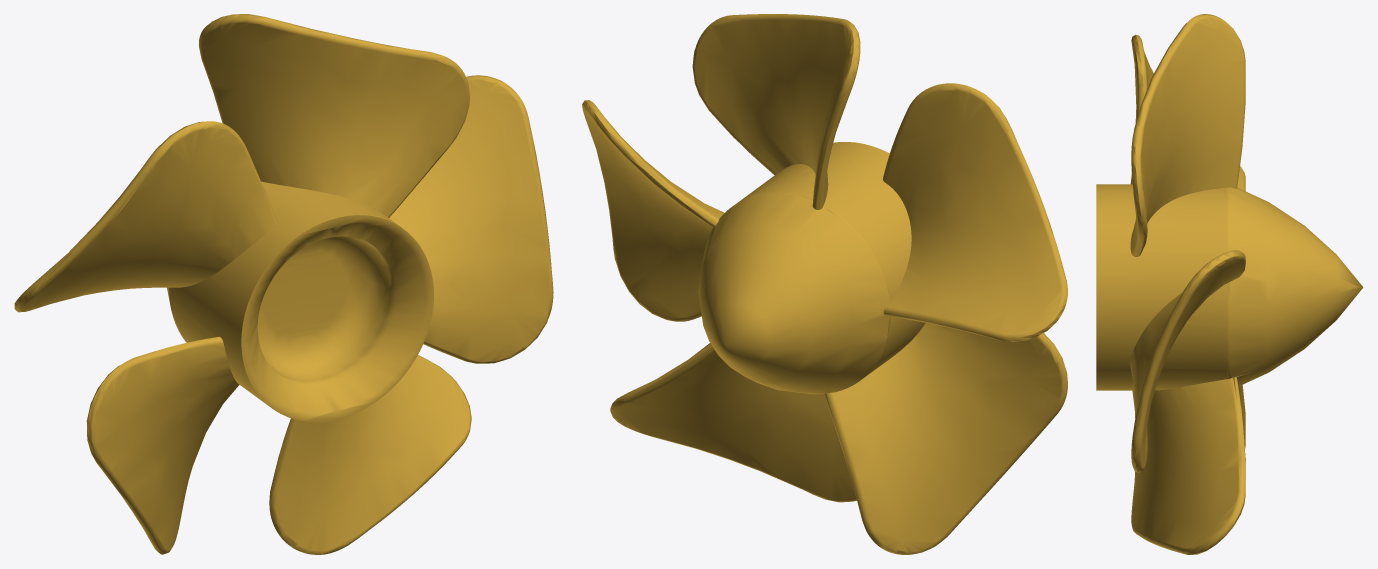
File: submarine_propeller.glb
The picture shows the model from 3 angles, left to right: view 1: azimuth 30°, elevation 25°; view 2: azimuth 150°, elevation 25°; view 3: azimuth 270°, elevation 25°; orthographic projection. The views are drawn at different scales.
Visible parts, largest first — view 1: Object_2; view 2: Object_2; view 3: Object_2.
Part boxes in pixels (box(x1,y1,x2,y2)): Object_2: box(14, 14, 553, 554); Object_2: box(582, 14, 1067, 554); Object_2: box(1096, 14, 1363, 554).
Size of the model in its own units: 53 by 53.27 by 26.4.
